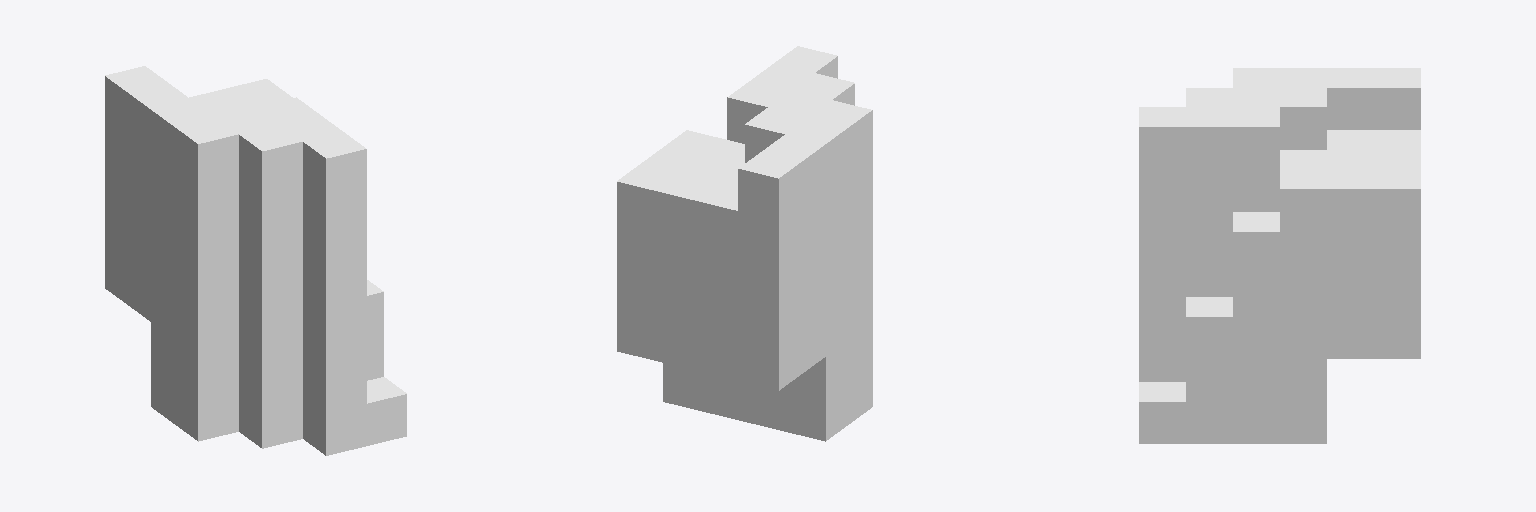
File: Koala_C.obj
The picture shows the model from 3 angles: view 1: azimuth 30°, elevation 25°; view 2: azimuth 150°, elevation 25°; view 3: azimuth 270°, elevation 25°; orthographic projection.
Parts seen in each view (by area): view 1: object 1; view 2: object 1; view 3: object 1.
Boxes of the visible parts, <box> form: object 1: <box>105,66,406,455</box>; object 1: <box>617,46,872,441</box>; object 1: <box>1139,68,1420,443</box>.
Bounding box in the file's own units: 0.4 × 0.7 × 0.6.